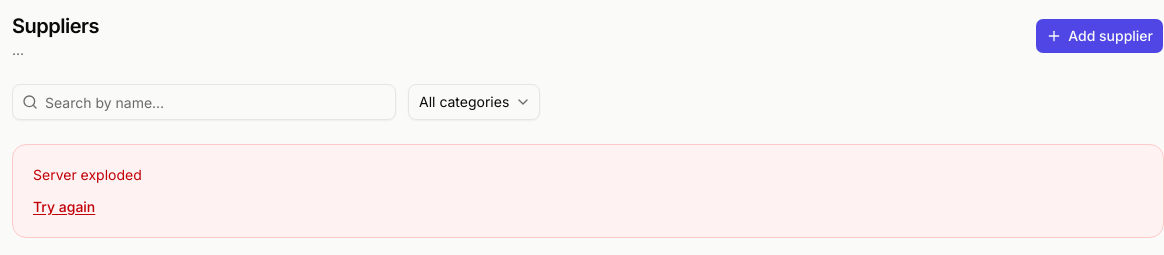
Scenario: SupplierList > error state › a failed load shows ErrorState, and Try again re-fetches
This screenshot has width=1164, height=255.
Expected: the text "Server exploded" is shown, [33,166,142,183]
Click the button "Try again". click: (64, 207)
box: [33,197,95,217]
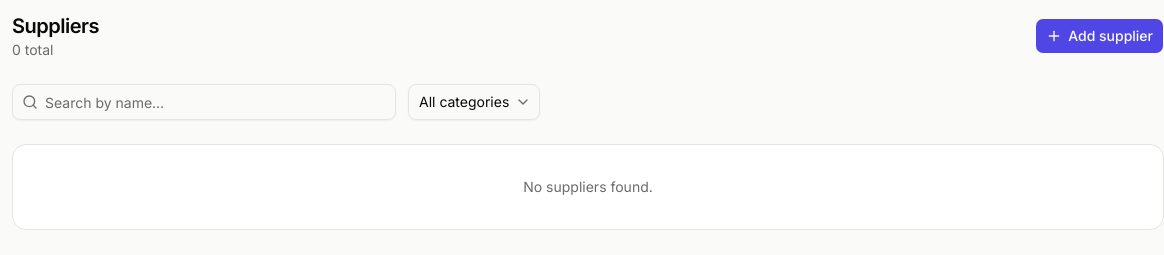
Result: the text "No suppliers found." is shown at [523,178,653,195]
